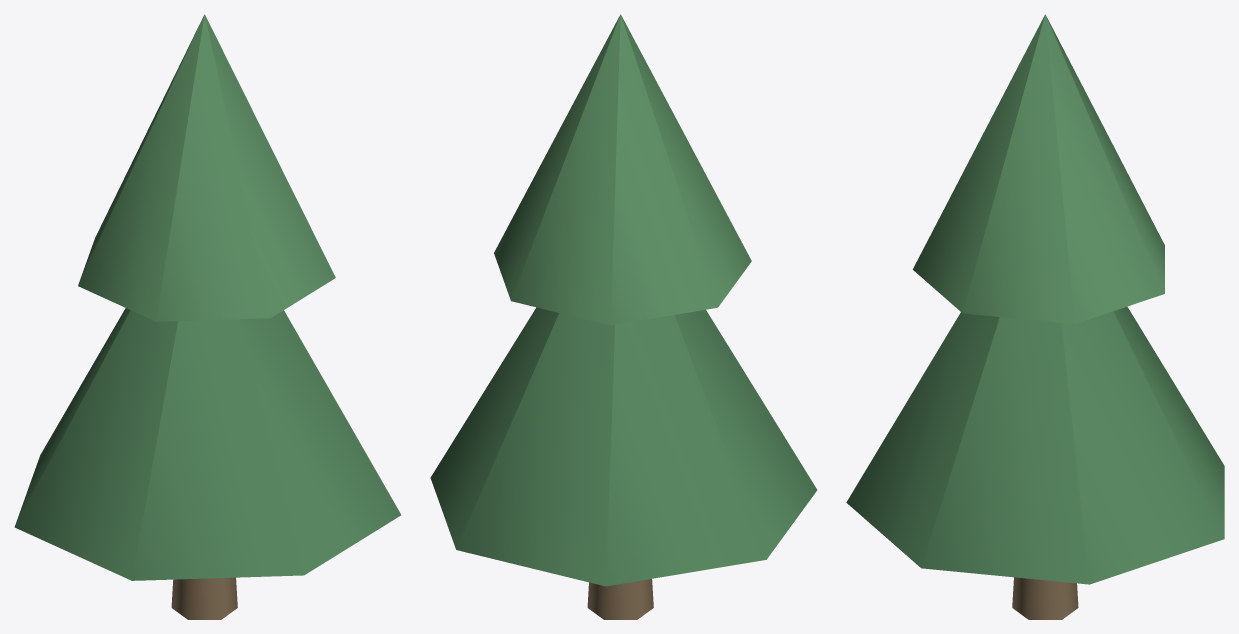
The model's file is pine.glb.
3 views of the same model, side by side, from view 1: azimuth 30°, elevation 25°; view 2: azimuth 150°, elevation 25°; view 3: azimuth 270°, elevation 25° (orthographic).
Parts seen in each view (by area): view 1: pine; view 2: pine; view 3: pine.
Part boxes in pixels (box(x1,y1,x2,y2)): pine: box(14, 14, 401, 619); pine: box(430, 14, 817, 619); pine: box(846, 14, 1224, 619).
Size of the model in its own units: 4.68 by 7.9 by 4.56.
